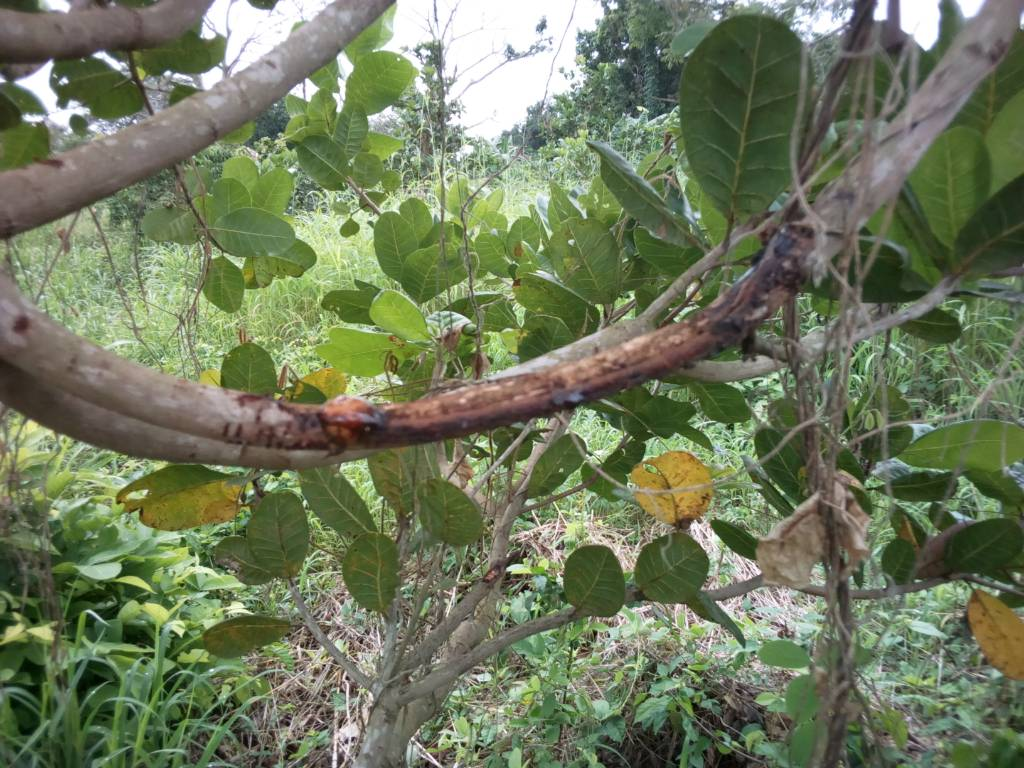Gommose: (268, 318, 761, 452)
